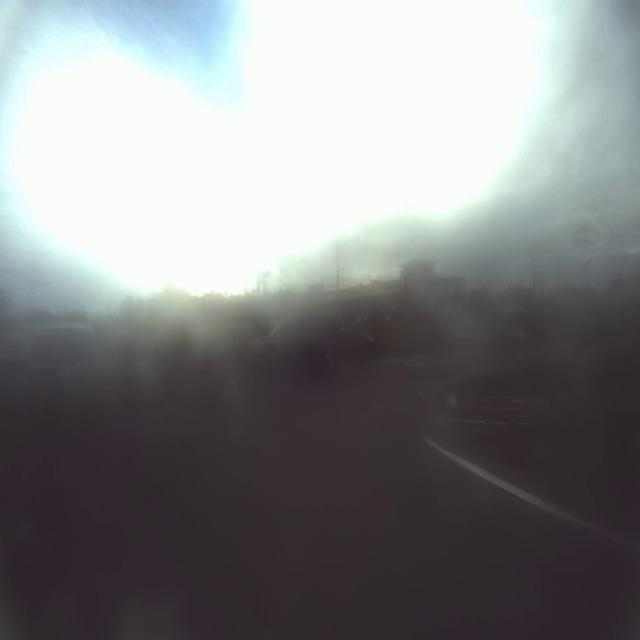car: (22, 312, 110, 411)
